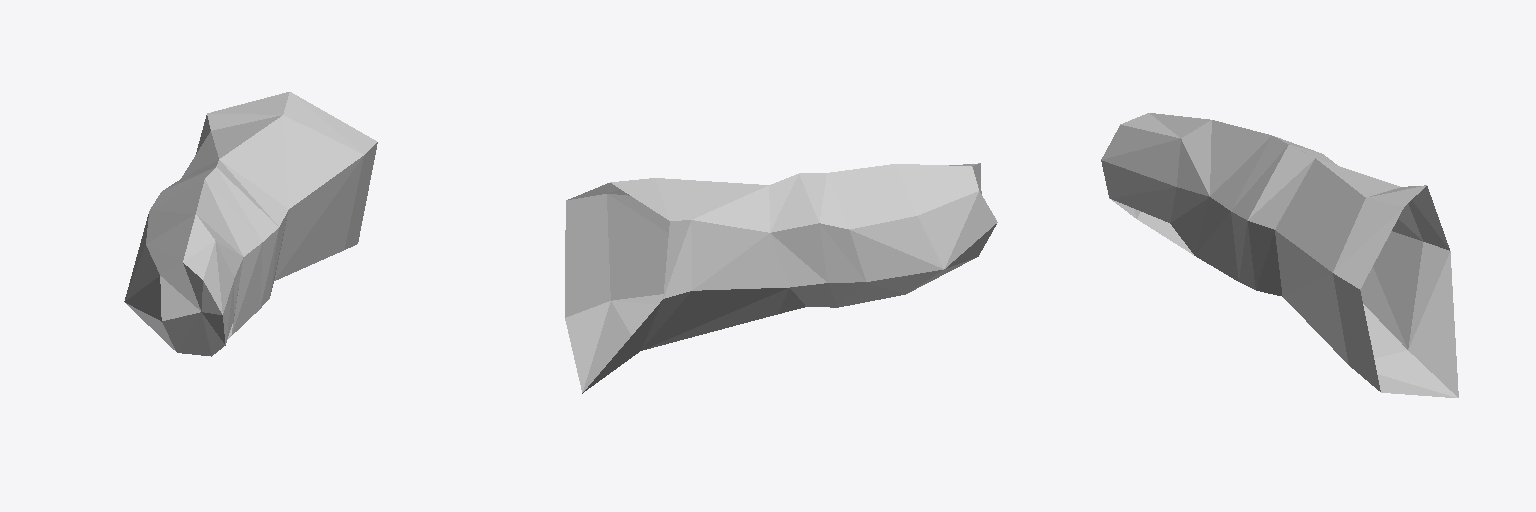
The model's file is thumb.obj.
3 renders of one model, left to right at view 1: azimuth 30°, elevation 25°; view 2: azimuth 150°, elevation 25°; view 3: azimuth 270°, elevation 25°, orthographic.
Visible parts, largest first — view 1: Thumb; view 2: Thumb; view 3: Thumb.
Boxes of the visible parts, <box> form: Thumb: <box>124,92,377,356</box>; Thumb: <box>565,163,997,393</box>; Thumb: <box>1101,113,1458,397</box>.
Size of the model in its own units: 0.2439 by 0.1374 by 0.2331.